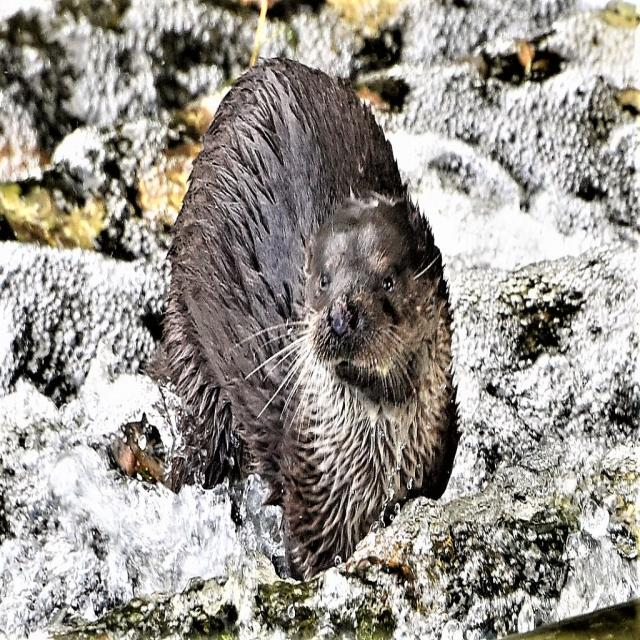otter: (176, 71, 451, 537)
